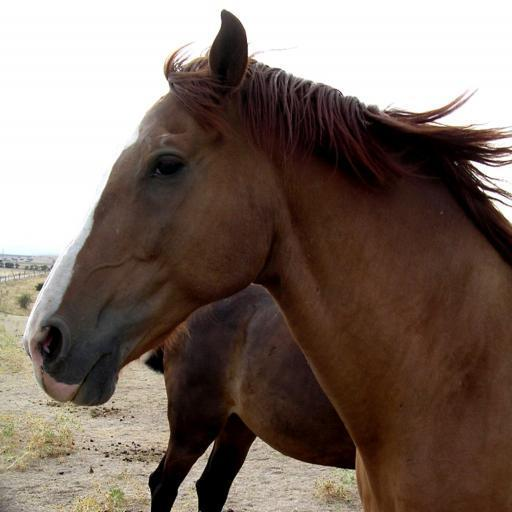horse: (24, 8, 512, 512), (146, 282, 361, 510)
